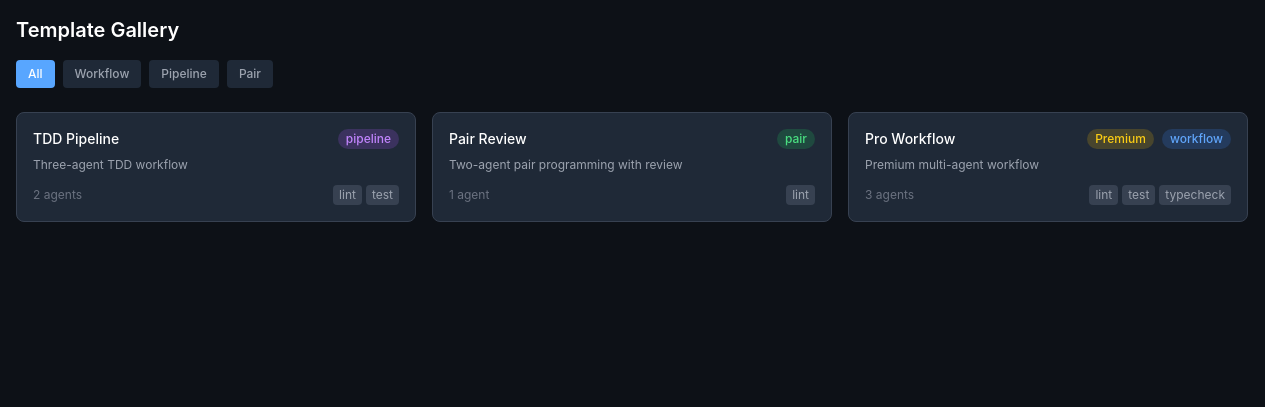
TemplateGallery › clicking a template card shows detail view
This screenshot has width=1265, height=407.
Click the element with test id "template-card-tdd-pipeline": (216, 167) [16, 112, 416, 222]
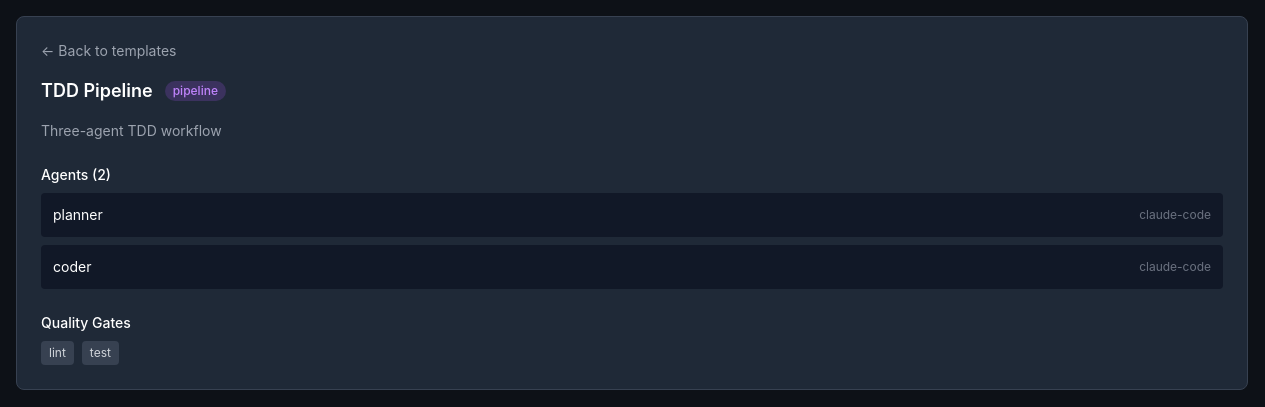
Expected: the element with test id "template-detail-tdd-pipeline" is shown
Expected: the text "planner" is shown, [53, 205, 103, 225]
